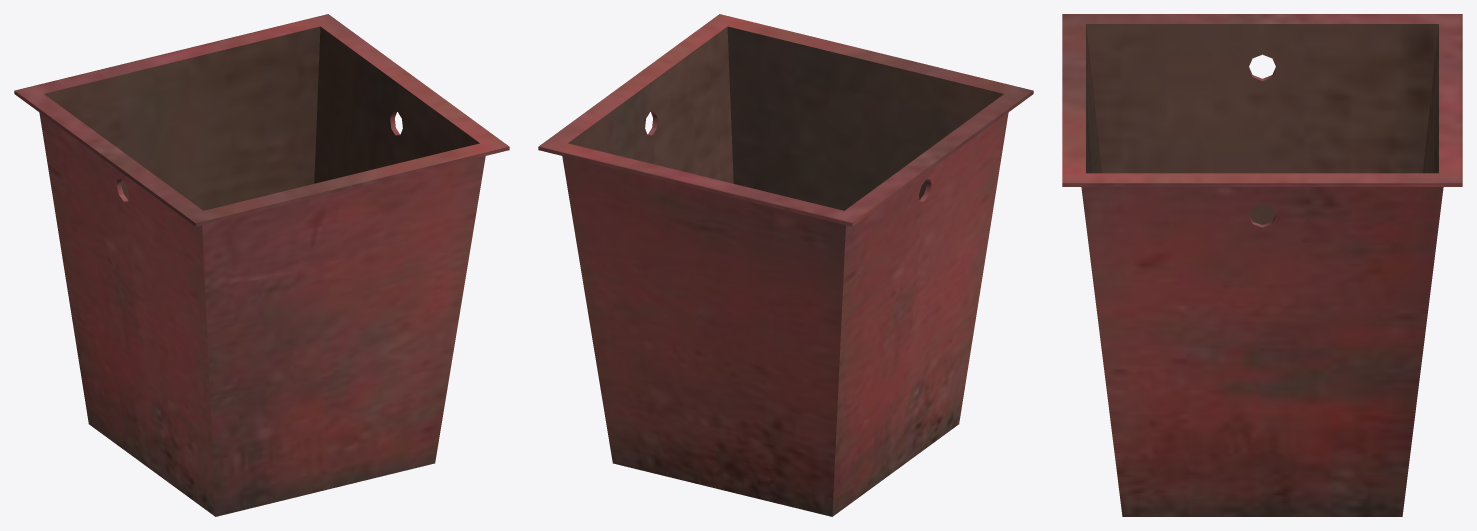
File: sov_bin.glb
3 renders of one model, left to right at view 1: azimuth 30°, elevation 25°; view 2: azimuth 150°, elevation 25°; view 3: azimuth 270°, elevation 25°, orthographic. The views are drawn at different scales.
Visible parts, largest first — view 1: can; view 2: can; view 3: can.
Part boxes in pixels (<box>): can: <box>14,14,509,516</box>; can: <box>538,14,1033,516</box>; can: <box>1062,14,1462,516</box>.
Bounding box in the file's own units: 0.95 × 0.94 × 0.95.
Materials: 1 (1 with a texture image).
